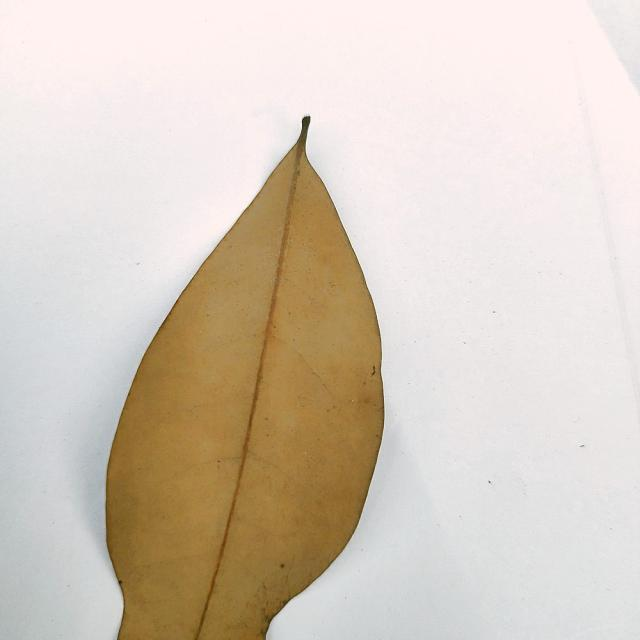Dry_Leaf-Lychee: (104, 119, 386, 639)
